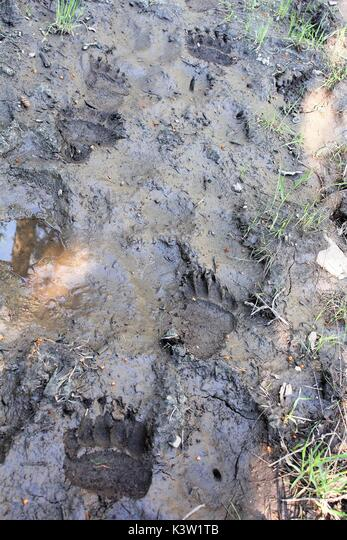bear: (47, 382, 170, 507), (58, 51, 128, 171), (175, 263, 244, 371), (180, 20, 238, 77)
